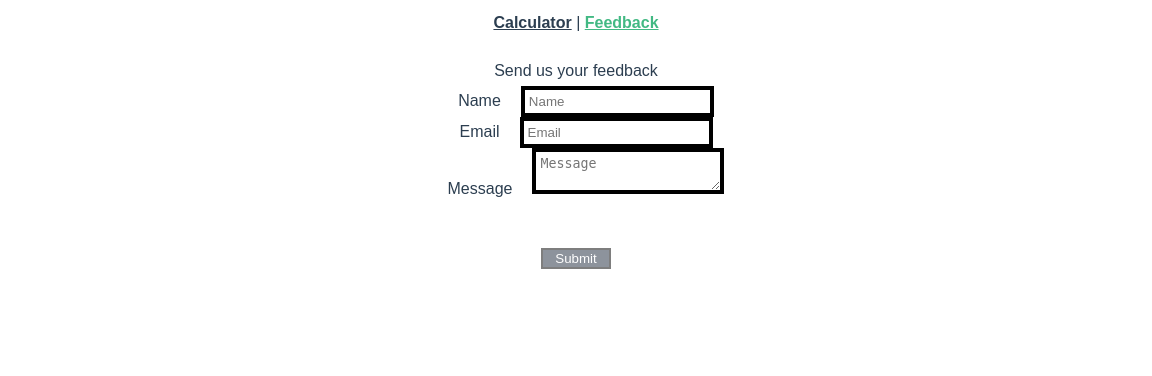
it: Tests for trying out form for feedback › Submitting form shows success message when server is online
Type "example name" into the field with id "Name" at (618, 102), box x1=521 y1=86 x2=714 y2=117
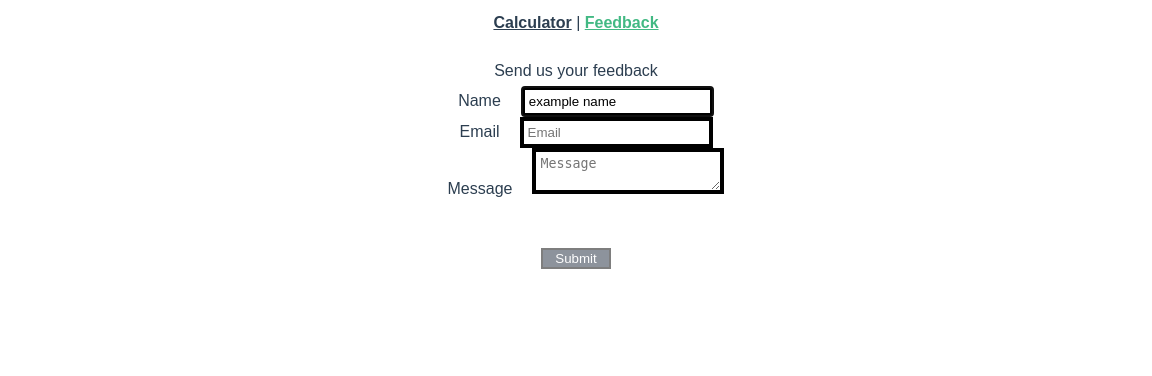
Type "exampleEmail@example.com" into the field with id "Email" at (617, 133), box x1=520 y1=117 x2=713 y2=148
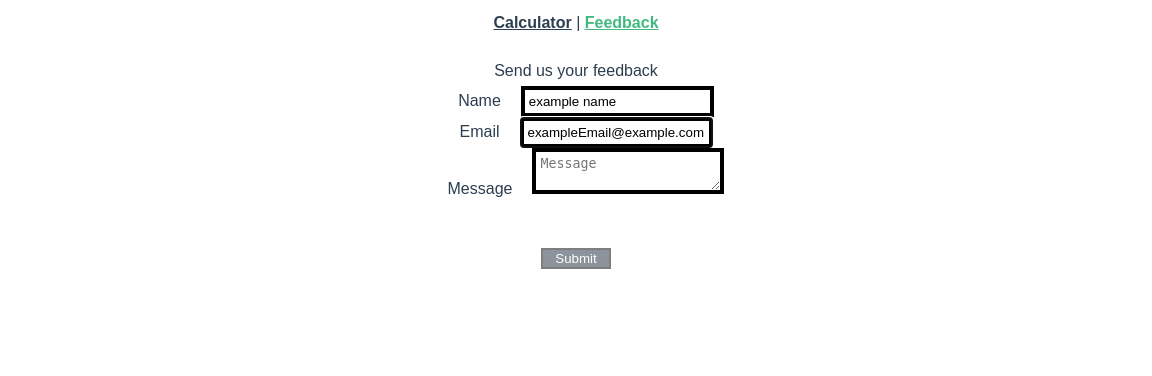
Type "example message" into the text box with id "Message" at (629, 171), box x1=533 y1=148 x2=725 y2=194
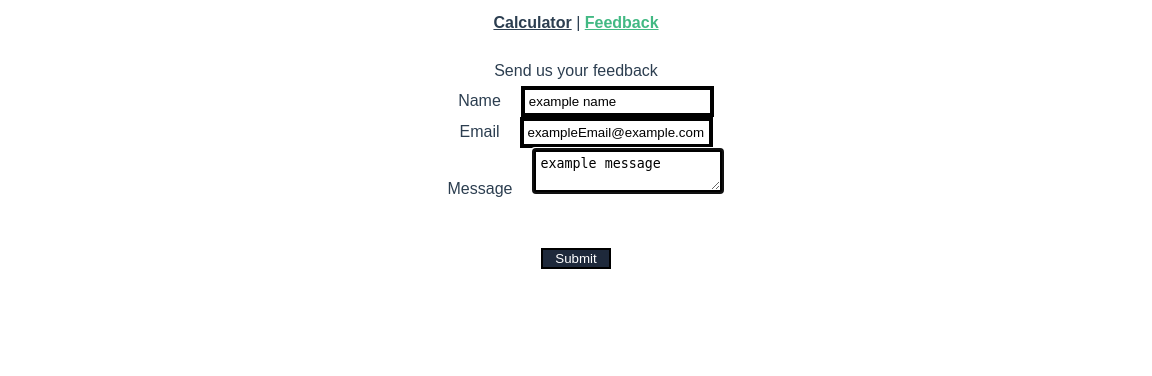
Submit the form, box x1=448 y1=86 x2=725 y2=269
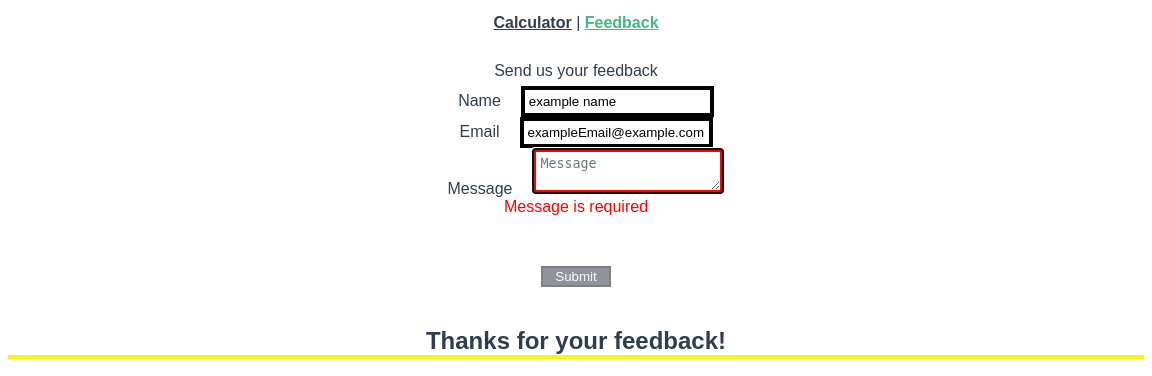
Now the heading "Thanks for your feedback!" is shown, box x1=8 y1=327 x2=1144 y2=359
